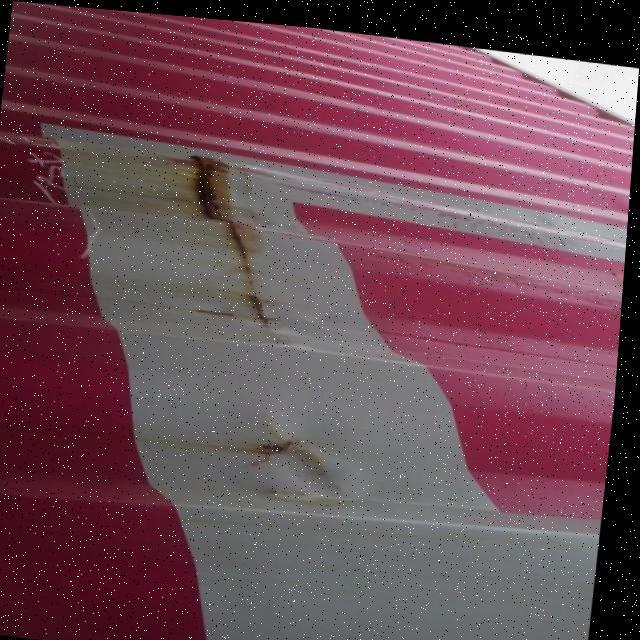rust: (162, 128, 285, 340)
